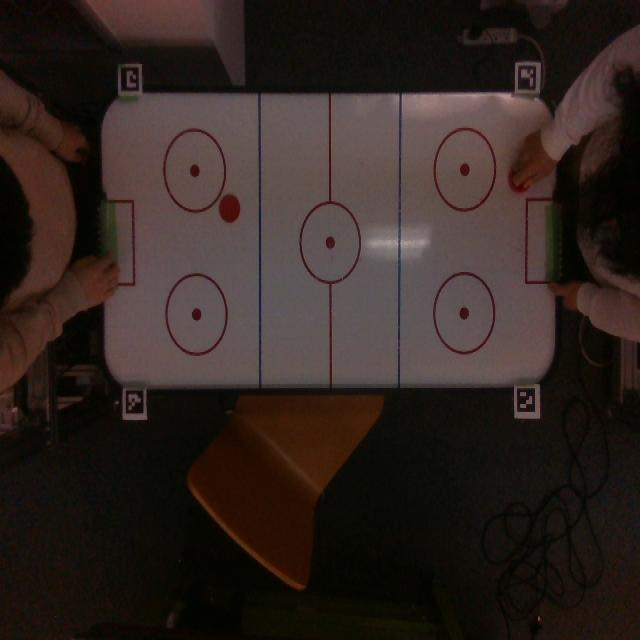puck: (219, 194, 241, 224)
